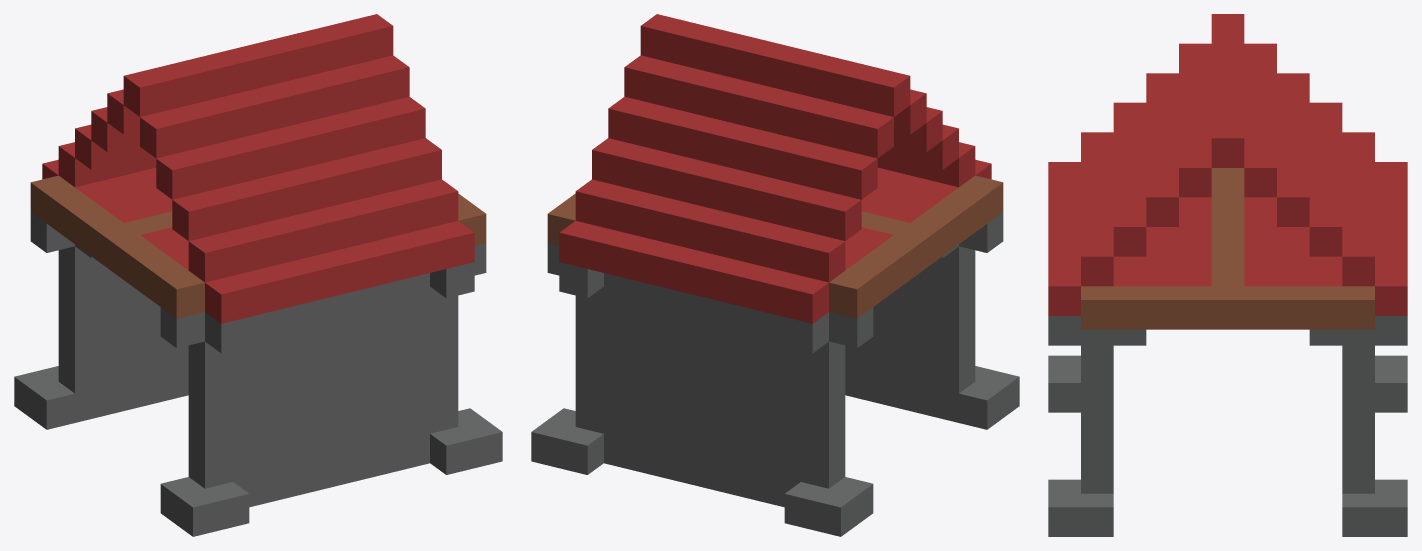
The model's file is SoldierHome.gltf.
The picture shows the model from 3 angles, left to right: view 1: azimuth 30°, elevation 25°; view 2: azimuth 150°, elevation 25°; view 3: azimuth 270°, elevation 25°; orthographic projection.
Visible parts, largest first — view 1: Layer.1; view 2: Layer.1; view 3: Layer.1.
Boxes of the visible parts, bbox=[...] form: Layer.1: bbox=[14, 14, 502, 536]; Layer.1: bbox=[531, 14, 1019, 536]; Layer.1: bbox=[1048, 14, 1407, 536].
Size of the model in its own units: 11 by 13 by 11.
1 material, 1 textured.
